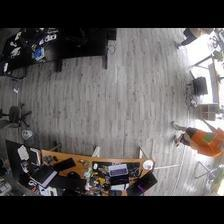normal: (169, 119, 224, 161)
